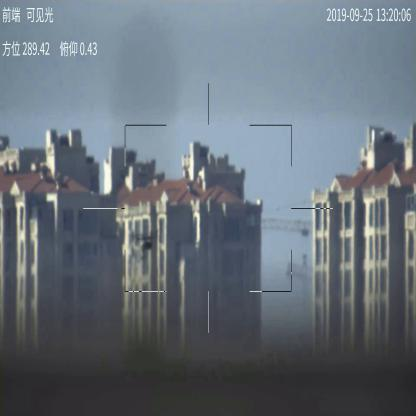uav: (134, 230, 162, 256)
